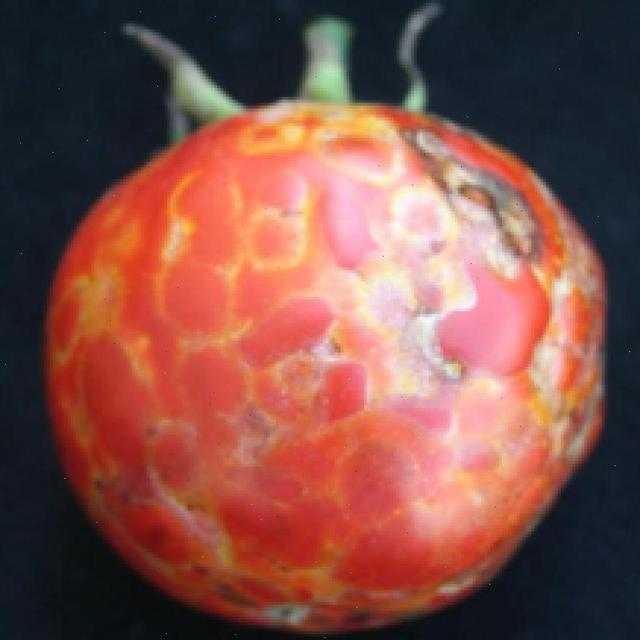Spotted wilt Virus Fruit: (32, 64, 404, 422)
